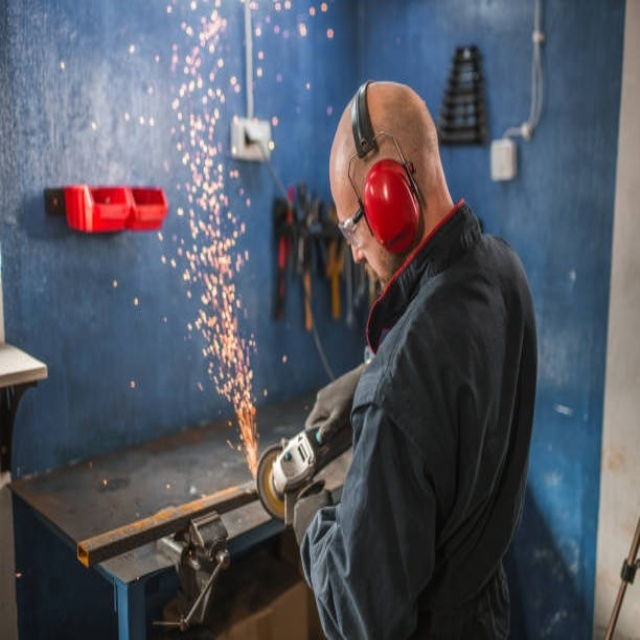Gafas: (336, 202, 363, 246)
Guantes: (306, 363, 363, 443), (291, 479, 334, 553)
Sin_mascara: (352, 249, 387, 289)
